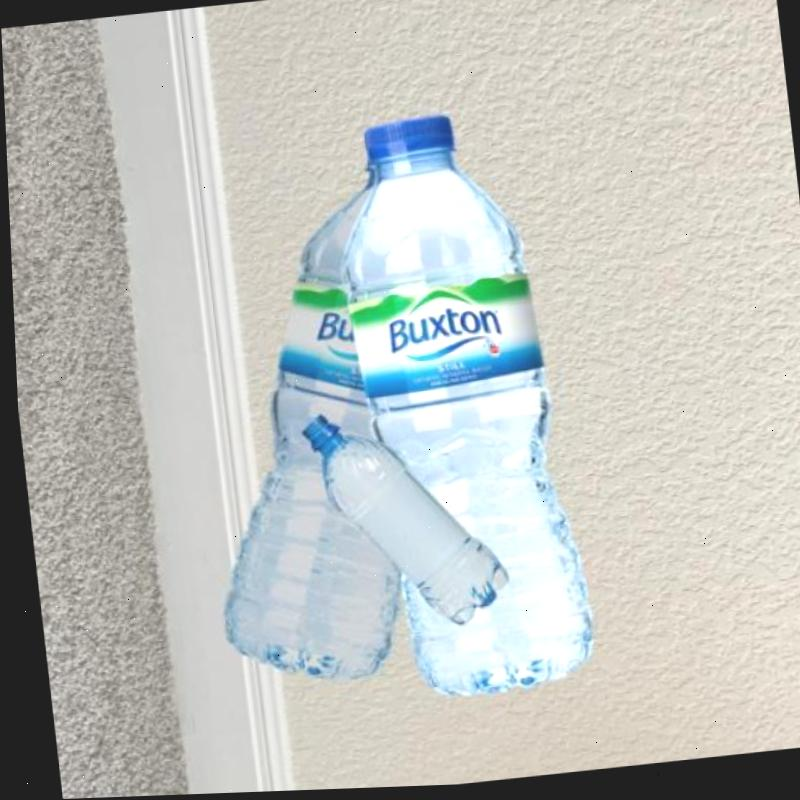botella: (335, 108, 595, 708), (170, 178, 420, 697), (294, 397, 506, 641)
